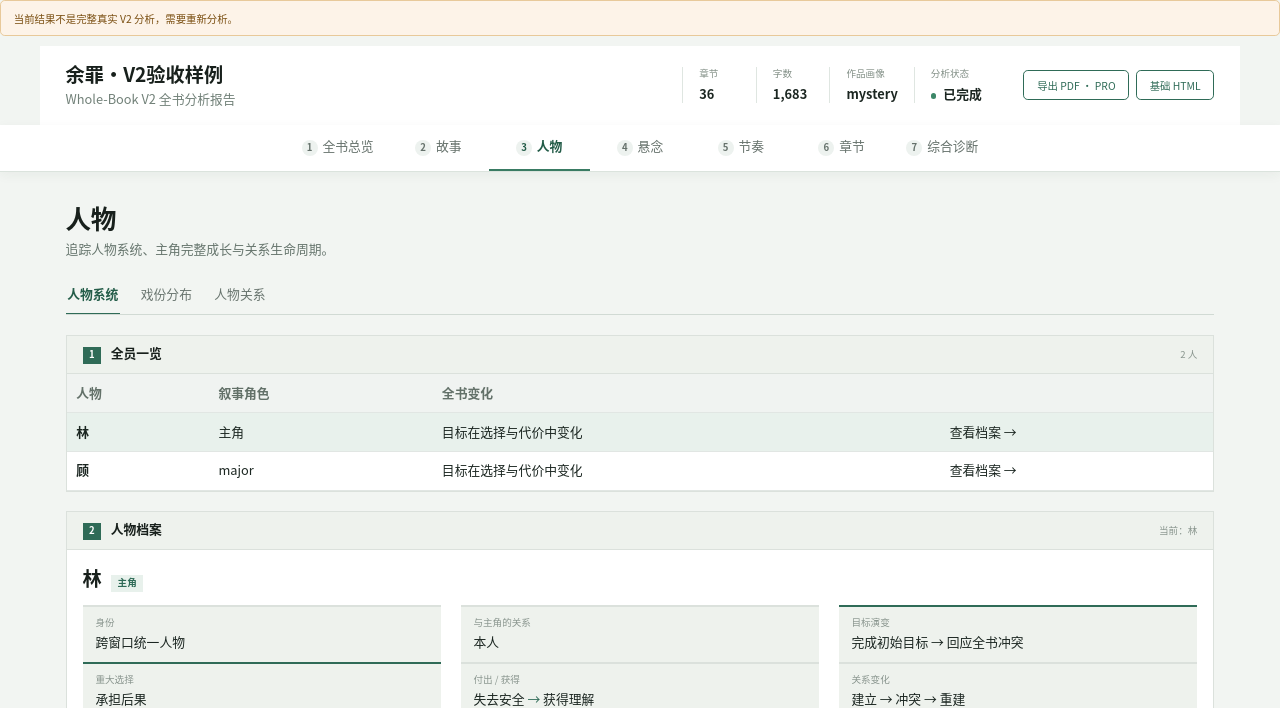
Test: 每程的账本 › 空栏说清楚是哪一种空，而不是留白
The width and height of the screenshot is (1280, 708).
Click the button "戏份分布": (166, 294) left=139, top=275, right=194, bottom=314
(page scrolled)
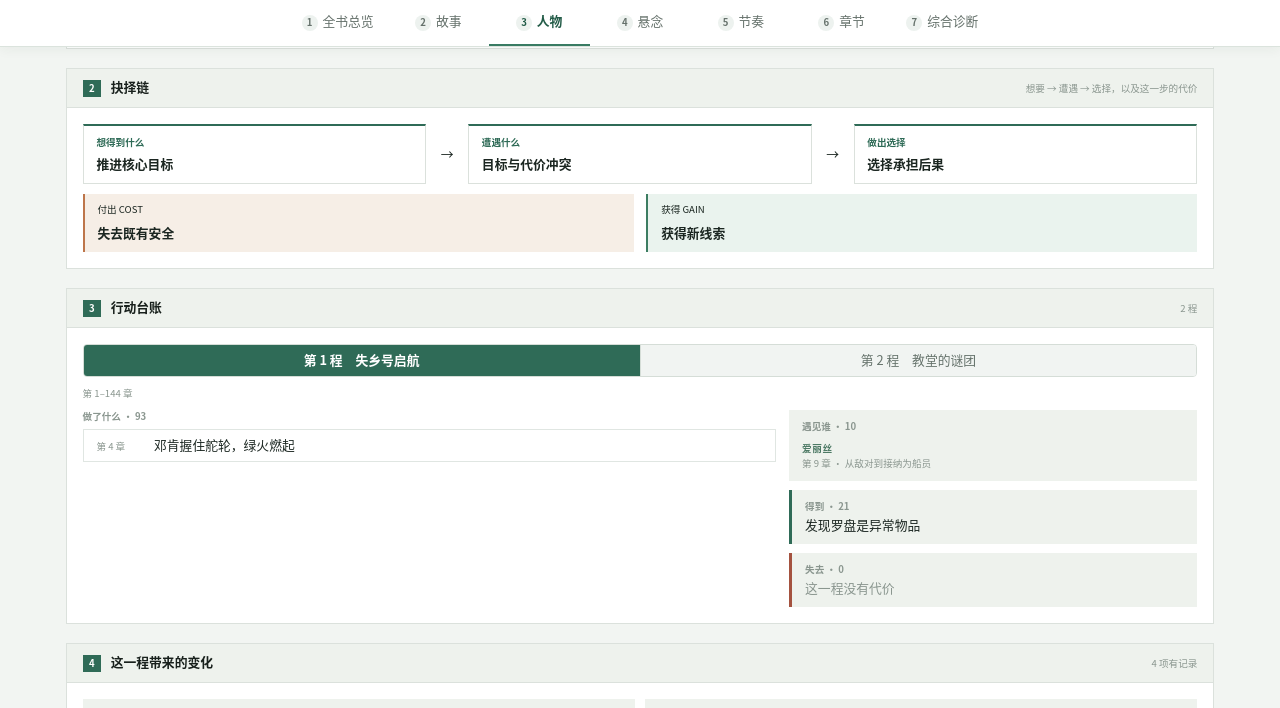
Click the button "第 2 程 教堂的谜团": (918, 360) left=640, top=345, right=1196, bottom=376
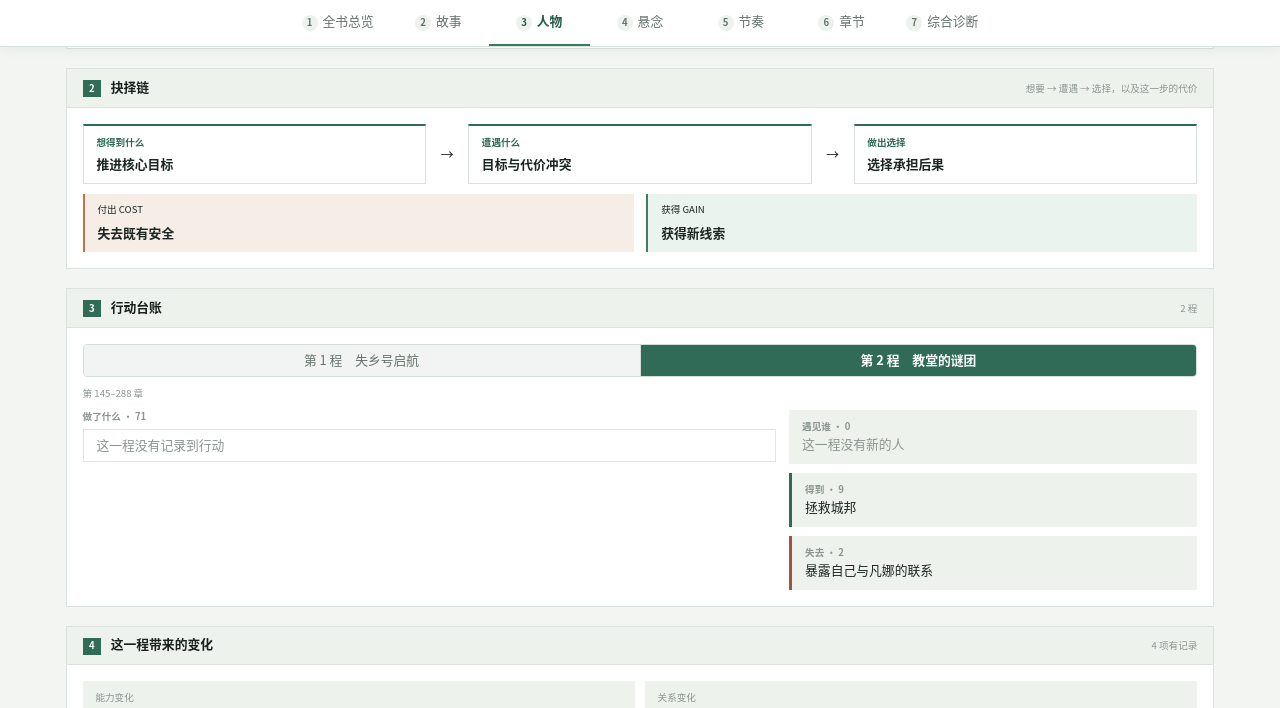
Expected: the text "这一程没有新的人" is shown, left=802, top=434, right=904, bottom=453
